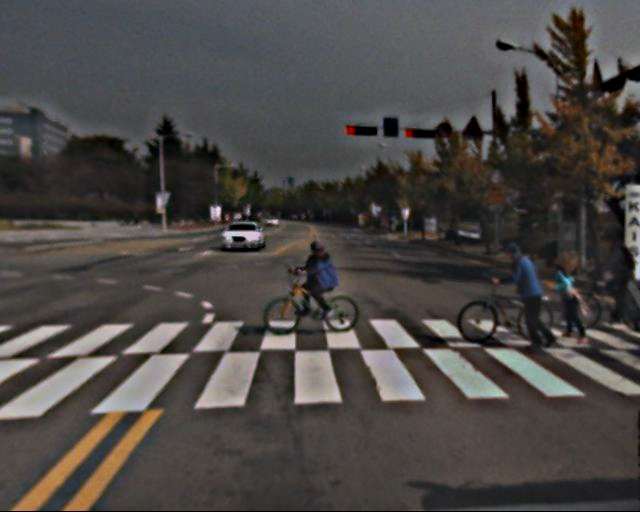person: (507, 244, 552, 353), (596, 233, 634, 325), (549, 261, 583, 344), (309, 241, 343, 323)
